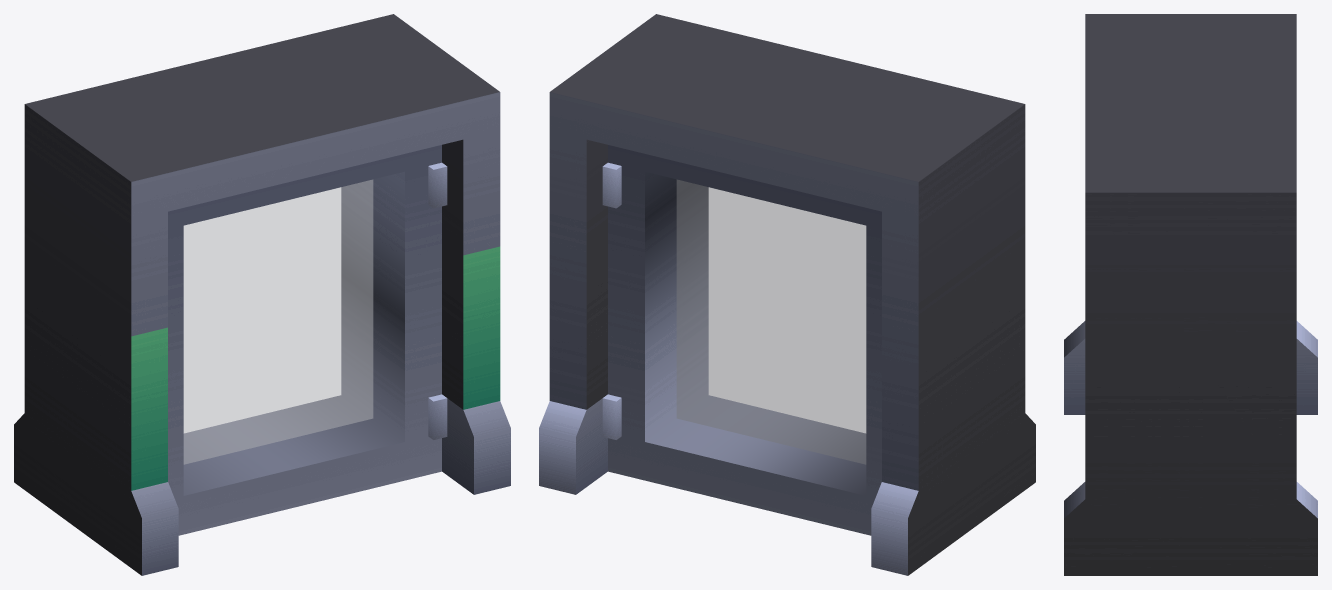
File: wall-window.glb
3 renders of one model, left to right at view 1: azimuth 30°, elevation 25°; view 2: azimuth 150°, elevation 25°; view 3: azimuth 270°, elevation 25°, orthographic.
Visible parts, largest first — view 1: wall-window, (%ignore); view 2: wall-window, (%ignore); view 3: wall-window.
Part boxes in pixels (x1,y1,x2,y2): wall-window: [14, 14, 510, 575]; (%ignore): [183, 179, 373, 464]; wall-window: [539, 14, 1035, 575]; (%ignore): [676, 179, 866, 464]; wall-window: [1064, 14, 1317, 575].
Bounding box in the file's own units: 1 × 1 × 0.6.
Materials: 2 (1 with a texture image).
